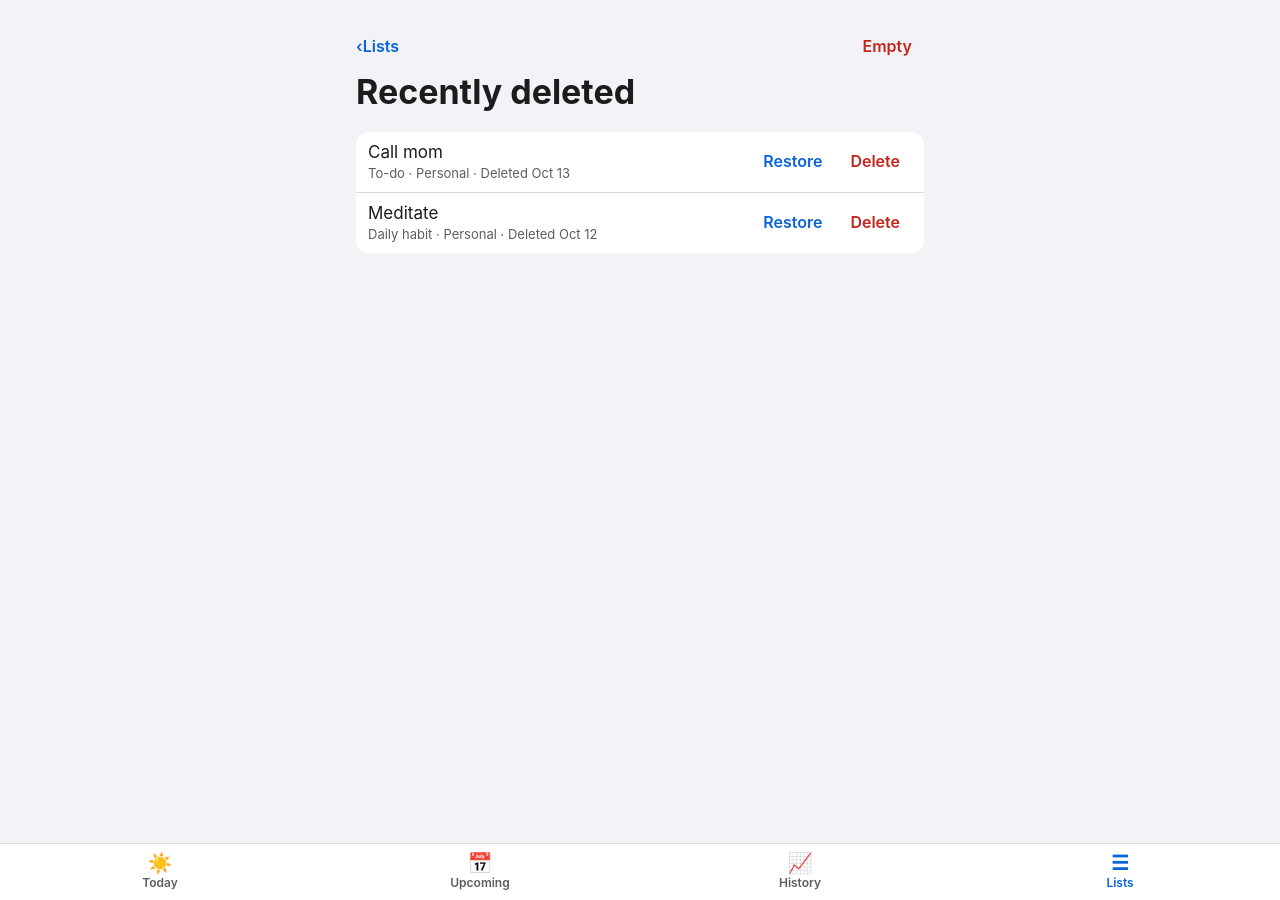
Scenario: Recently deleted › deleting for good › deletes one item after confirming, with its history
Click the button with aria-label "Delete Meditate". click: [875, 223]
box: [838,201,912,245]
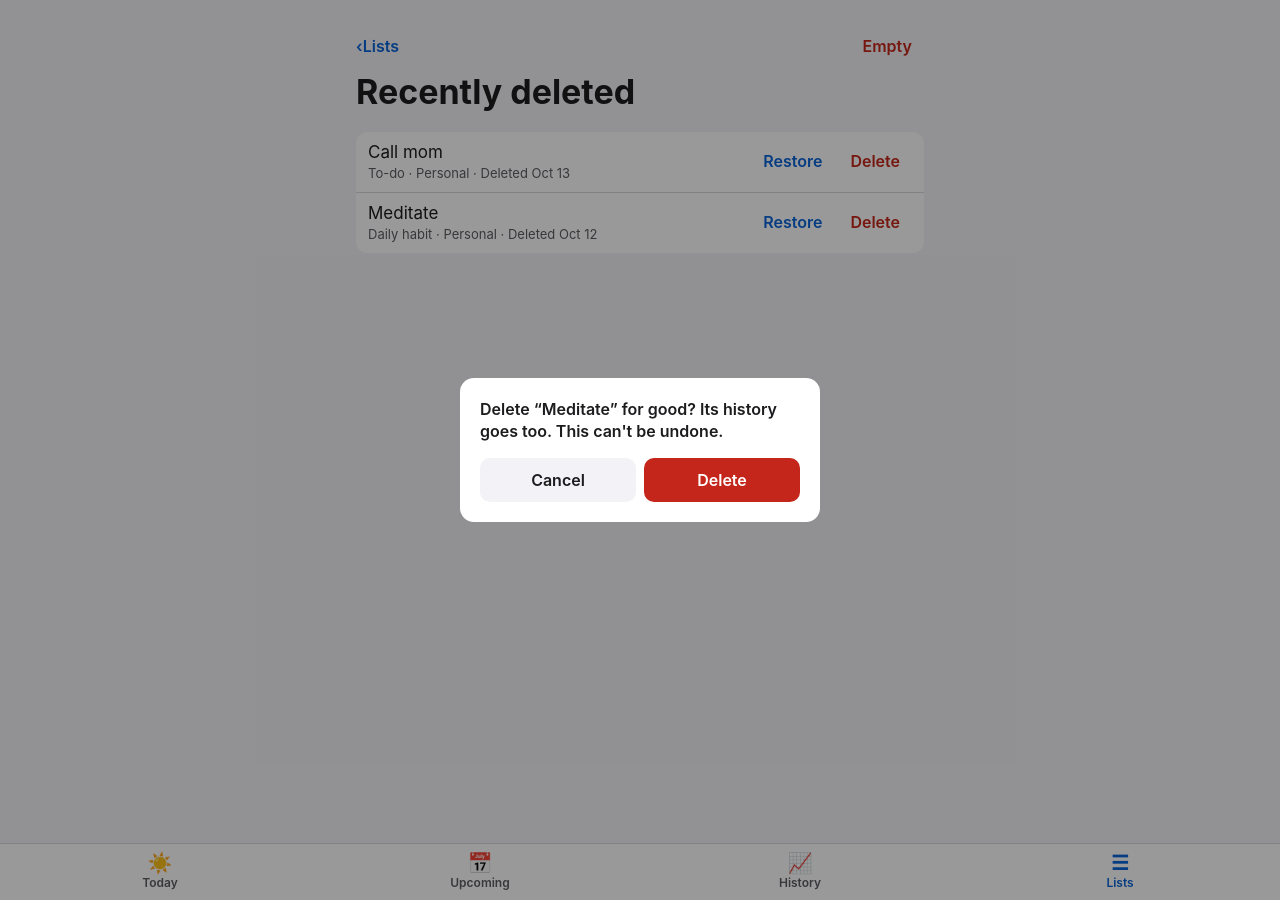
Now the dialog shows "Delete “Meditate” for good? Its history goes too. This can't be undone.", box [480,399,777,441]
Click the button "Delete". click: [722, 480]
box: [644,458,800,502]
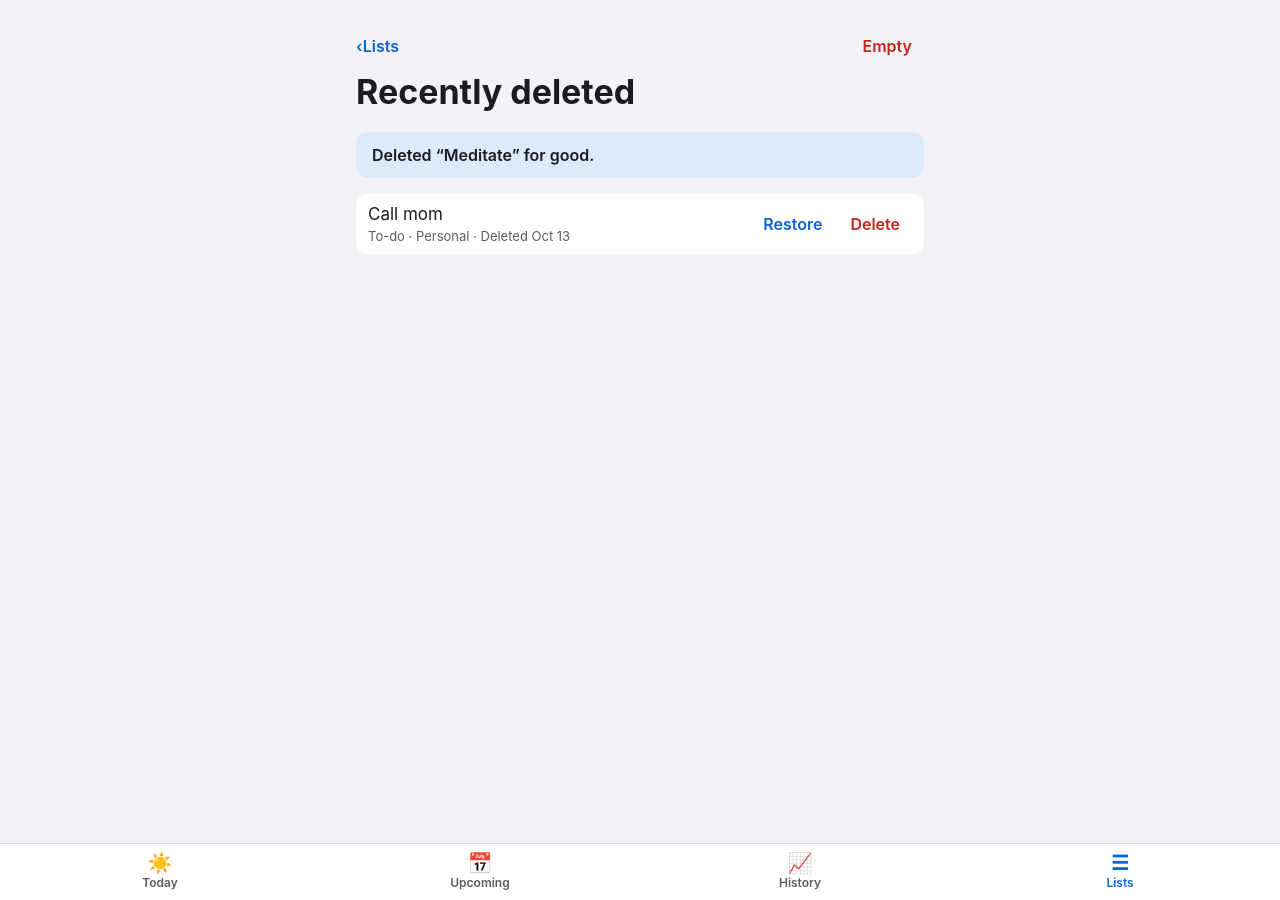
Expected: the button with aria-label "Restore Call mom" is shown, [751,202,834,246]
Now the text "Deleted “Meditate” for good." is shown, box [356,132,924,178]
